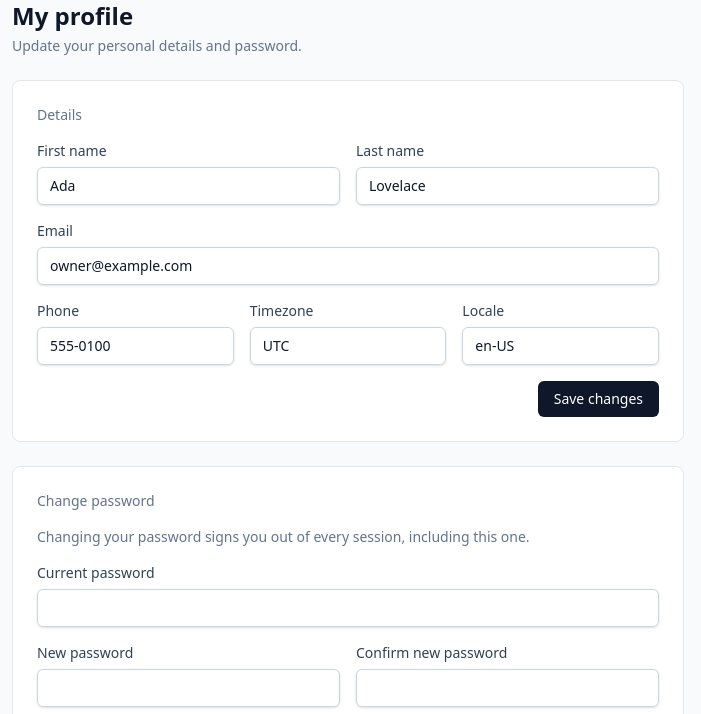
ProfilePage › shows the server's error instead of navigating when changing the password fails
In the password field labelled "Current password": (348,608) [37,589,659,627], type "WrongPassw0rd!"
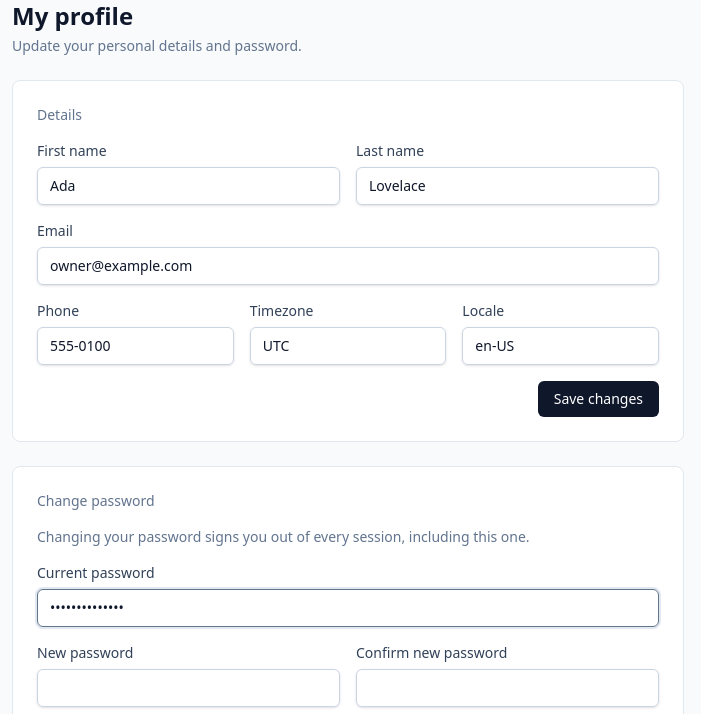
In the password field labelled "New password": (188,688) [37,669,340,707], type "NewPassw0rd!"
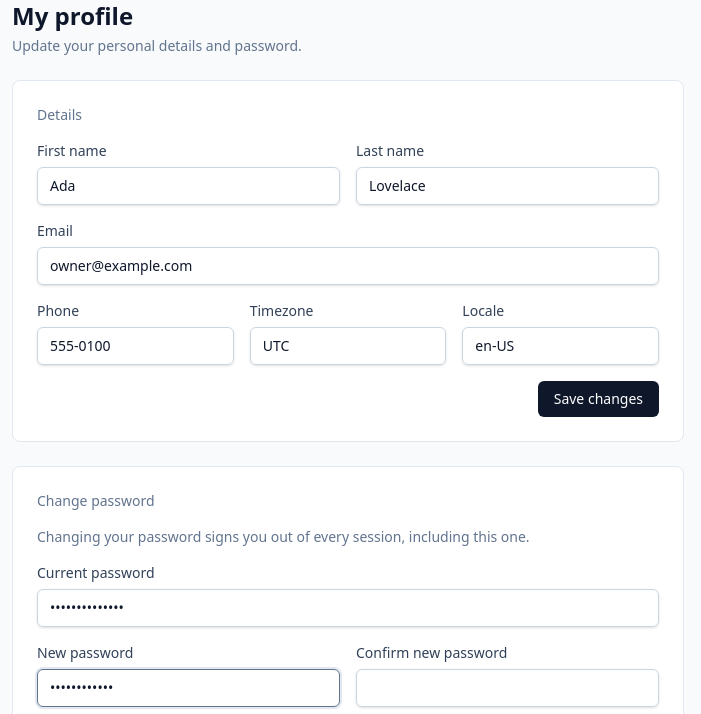
In the password field labelled "Confirm new password": (508,688) [356,669,659,707], type "NewPassw0rd!"
(page scrolled)
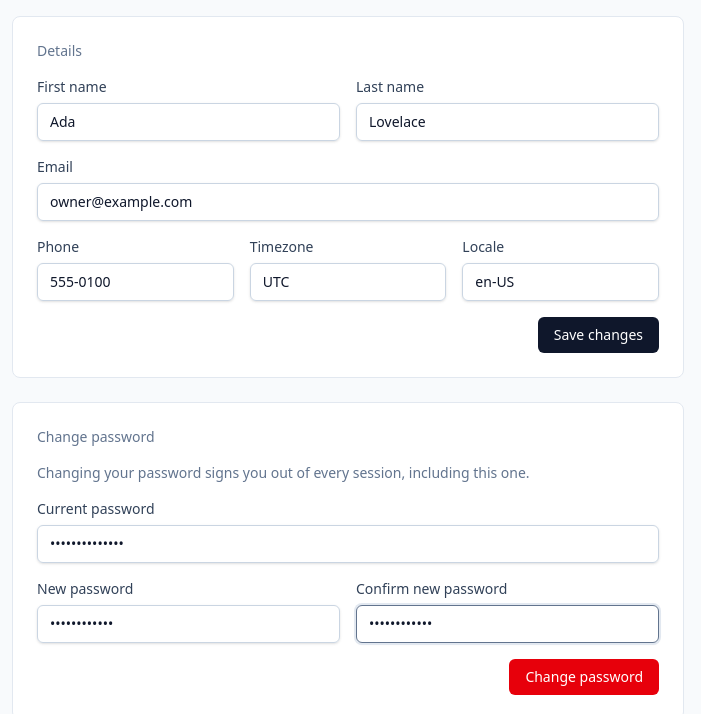
Click the button "Change password": (584,677) [509,659,659,695]
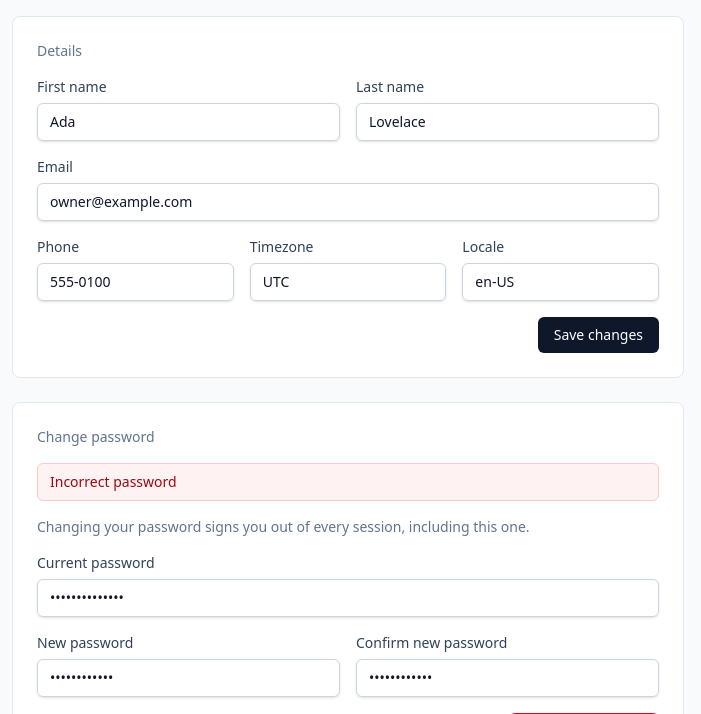
Expected: the message reads "Incorrect password", [50,472,177,491]
